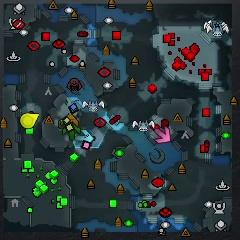p4: (20, 113, 39, 129)
x1: (154, 127, 170, 143)
x3: (74, 129, 93, 143)
x4: (62, 125, 80, 141)
x5: (62, 113, 78, 125)
